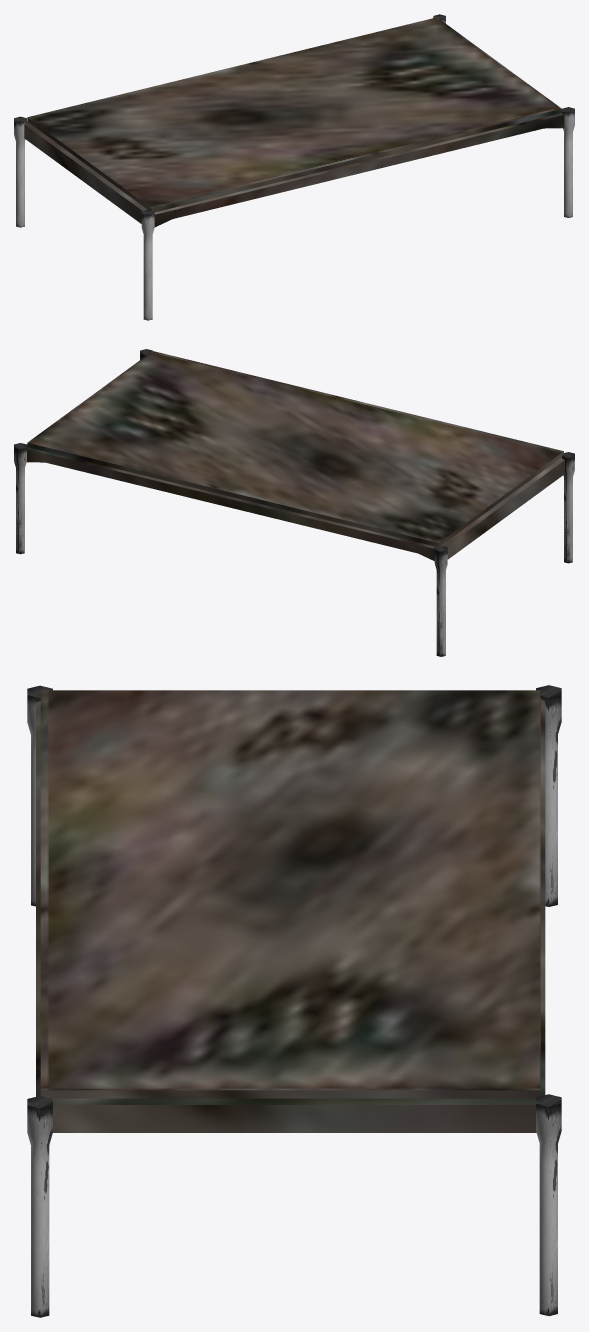
File: stoliczekdrust.glb
The picture shows the model from 3 angles, top to bottom: view 1: azimuth 30°, elevation 25°; view 2: azimuth 150°, elevation 25°; view 3: azimuth 270°, elevation 25°; orthographic projection. The views are drawn at different scales.
Visible parts, largest first — view 1: Box001, Cylinder001, Cylinder002, Cylinder004; view 2: Box001, Cylinder004, Cylinder003, Cylinder001; view 3: Box001, Cylinder003, Cylinder002, Cylinder004, Cylinder001.
Boxes of the visible parts, x1=… form: Box001: x1=24, y1=17, x2=564, y2=227; Cylinder001: x1=141, y1=209, x2=154, y2=320; Cylinder002: x1=562, y1=107, x2=574, y2=217; Cylinder004: x1=14, y1=116, x2=26, y2=227; Box001: x1=27, y1=351, x2=565, y2=560; Cylinder004: x1=434, y1=545, x2=447, y2=656; Cylinder003: x1=14, y1=443, x2=26, y2=554; Cylinder001: x1=562, y1=452, x2=574, y2=563; Box001: x1=36, y1=690, x2=545, y2=1132; Cylinder003: x1=536, y1=1094, x2=561, y2=1315; Cylinder002: x1=27, y1=1096, x2=52, y2=1317; Cylinder004: x1=536, y1=685, x2=561, y2=906; Cylinder001: x1=27, y1=685, x2=52, y2=906.
Bounding box in the file's own units: 1.54 × 0.3689 × 0.8236.
2 materials, 2 textured.
